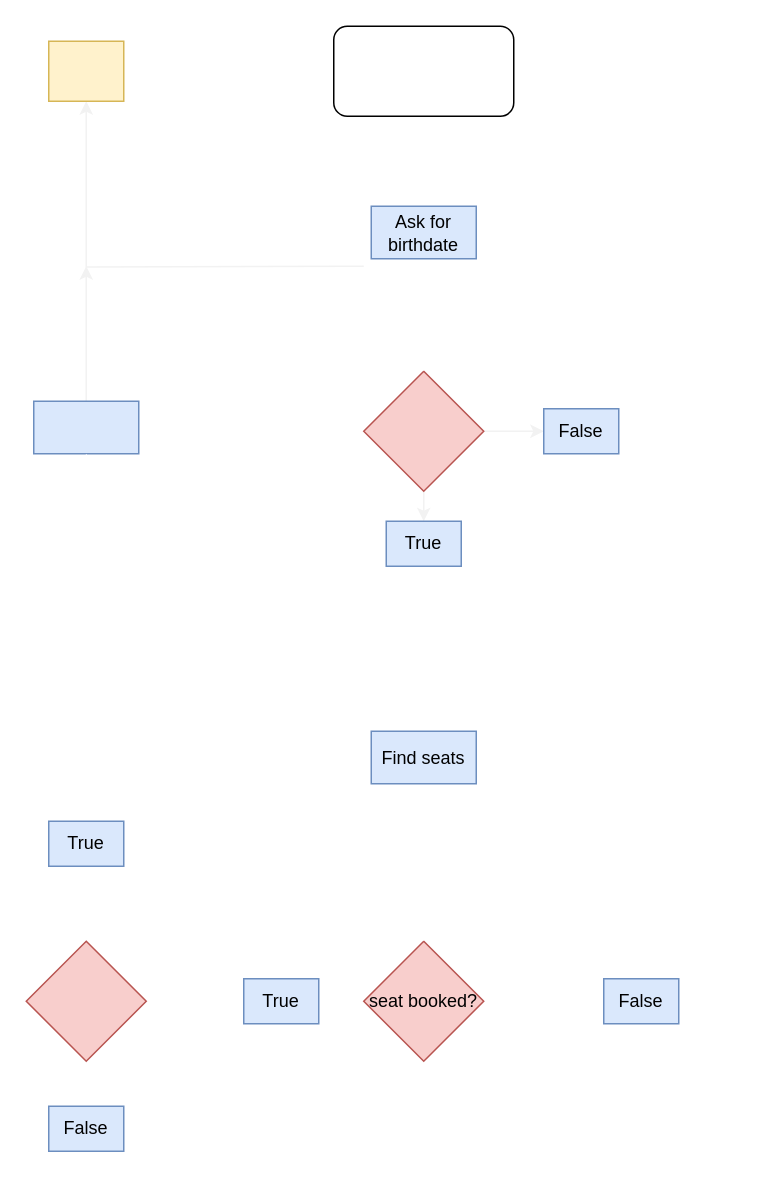
Some shapes in this 764 by 1178 pixel diagram are drawn without their labels. Here are the shapes that lost their labels. From the top down, the centre of each, then its label:
the point at 85,70: Exit
the point at 423,70: Find booking
the point at 85,427: Display seat details
the point at 423,430: Is correct format?
the point at 85,1000: matches customer birthdate?
